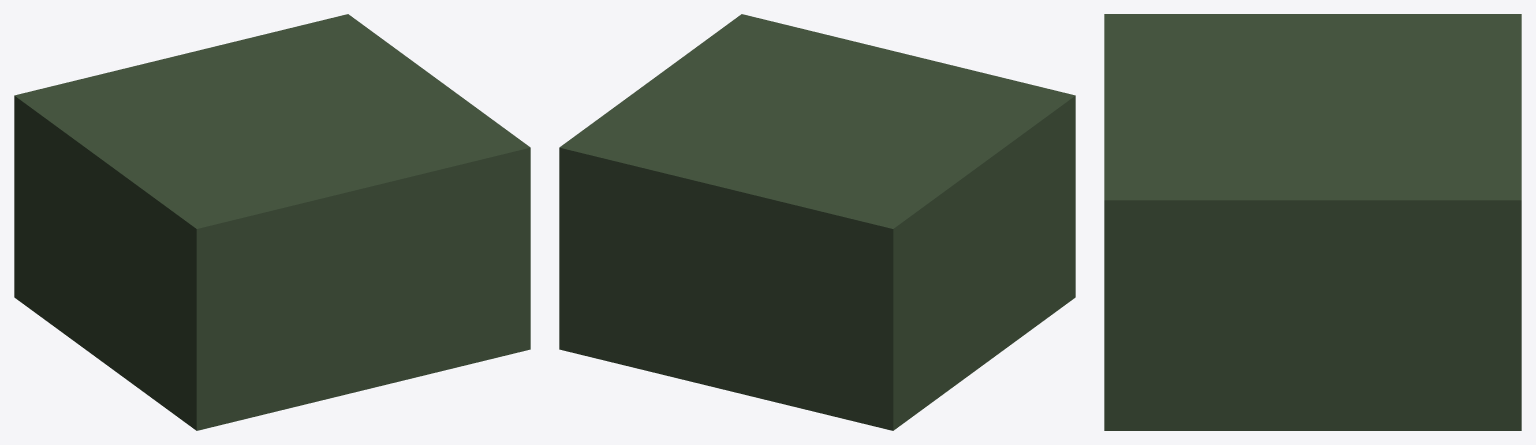
File: nature_bush_b_lod2.glb
3 renders of one model, left to right at view 1: azimuth 30°, elevation 25°; view 2: azimuth 150°, elevation 25°; view 3: azimuth 270°, elevation 25°, orthographic. The views are drawn at different scales.
Visible parts, largest first — view 1: nature_bush_b_lod2; view 2: nature_bush_b_lod2; view 3: nature_bush_b_lod2.
Part boxes in pixels (x1,y1,x2,y2): nature_bush_b_lod2: [14, 14, 530, 430]; nature_bush_b_lod2: [559, 14, 1075, 430]; nature_bush_b_lod2: [1104, 14, 1521, 430].
Size of the model in its own units: 2.06 by 1.19 by 1.95.
